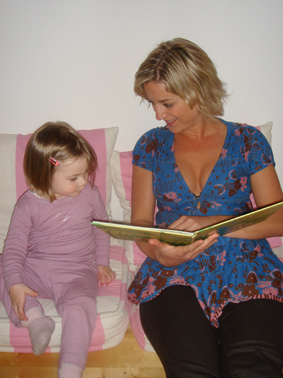person: (127, 39, 283, 378)
